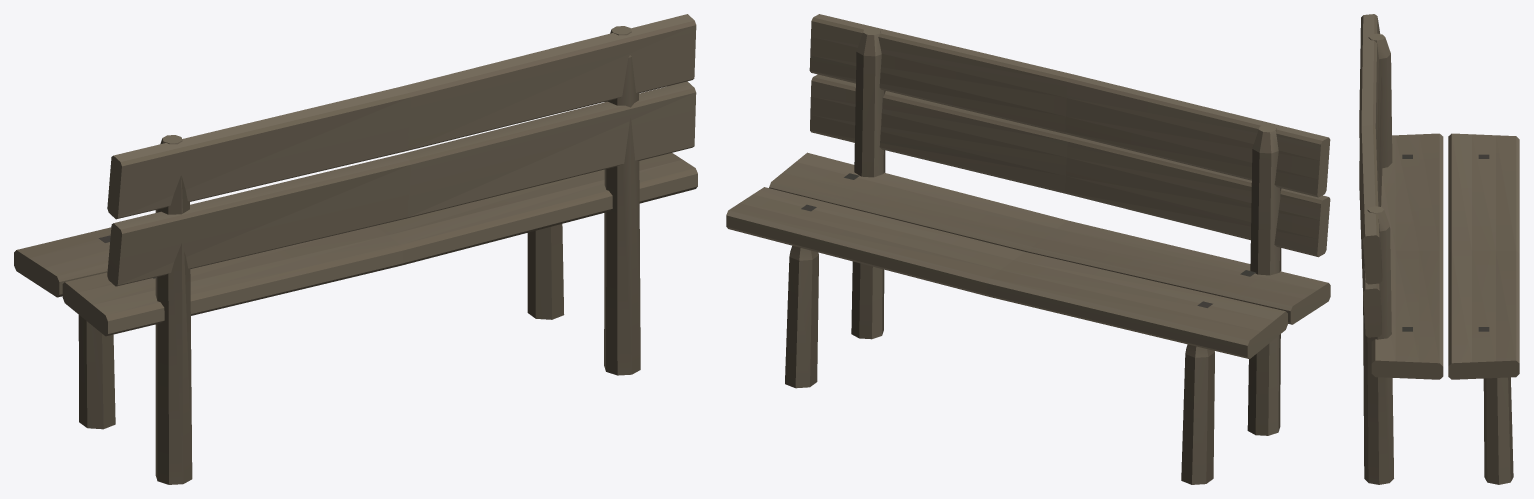
File: prop-bench.glb
3 renders of one model, left to right at view 1: azimuth 30°, elevation 25°; view 2: azimuth 150°, elevation 25°; view 3: azimuth 270°, elevation 25°, orthographic. The views are drawn at different scales.
Parts seen in each view (by area): view 1: prop-bench; view 2: prop-bench; view 3: prop-bench.
Boxes of the visible parts, box(x1,y1,x2,y2) form: prop-bench: box(14, 14, 697, 484); prop-bench: box(726, 14, 1330, 484); prop-bench: box(1359, 14, 1519, 484).
Bounding box in the file's own units: 1.62 × 0.8885 × 0.4827.
